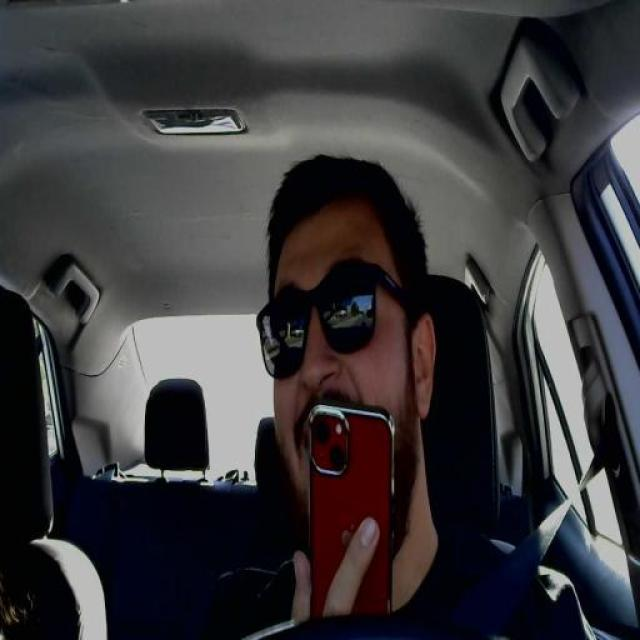phone: (302, 399, 398, 619)
